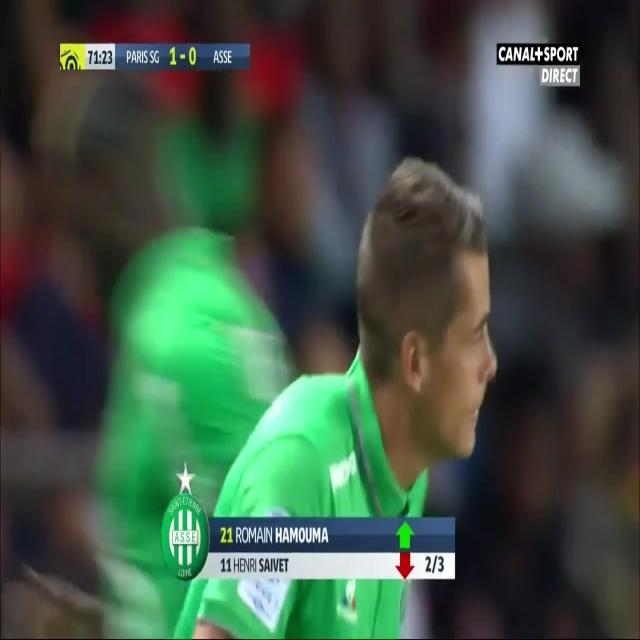Player: (172, 147, 502, 634), (65, 75, 295, 639)
